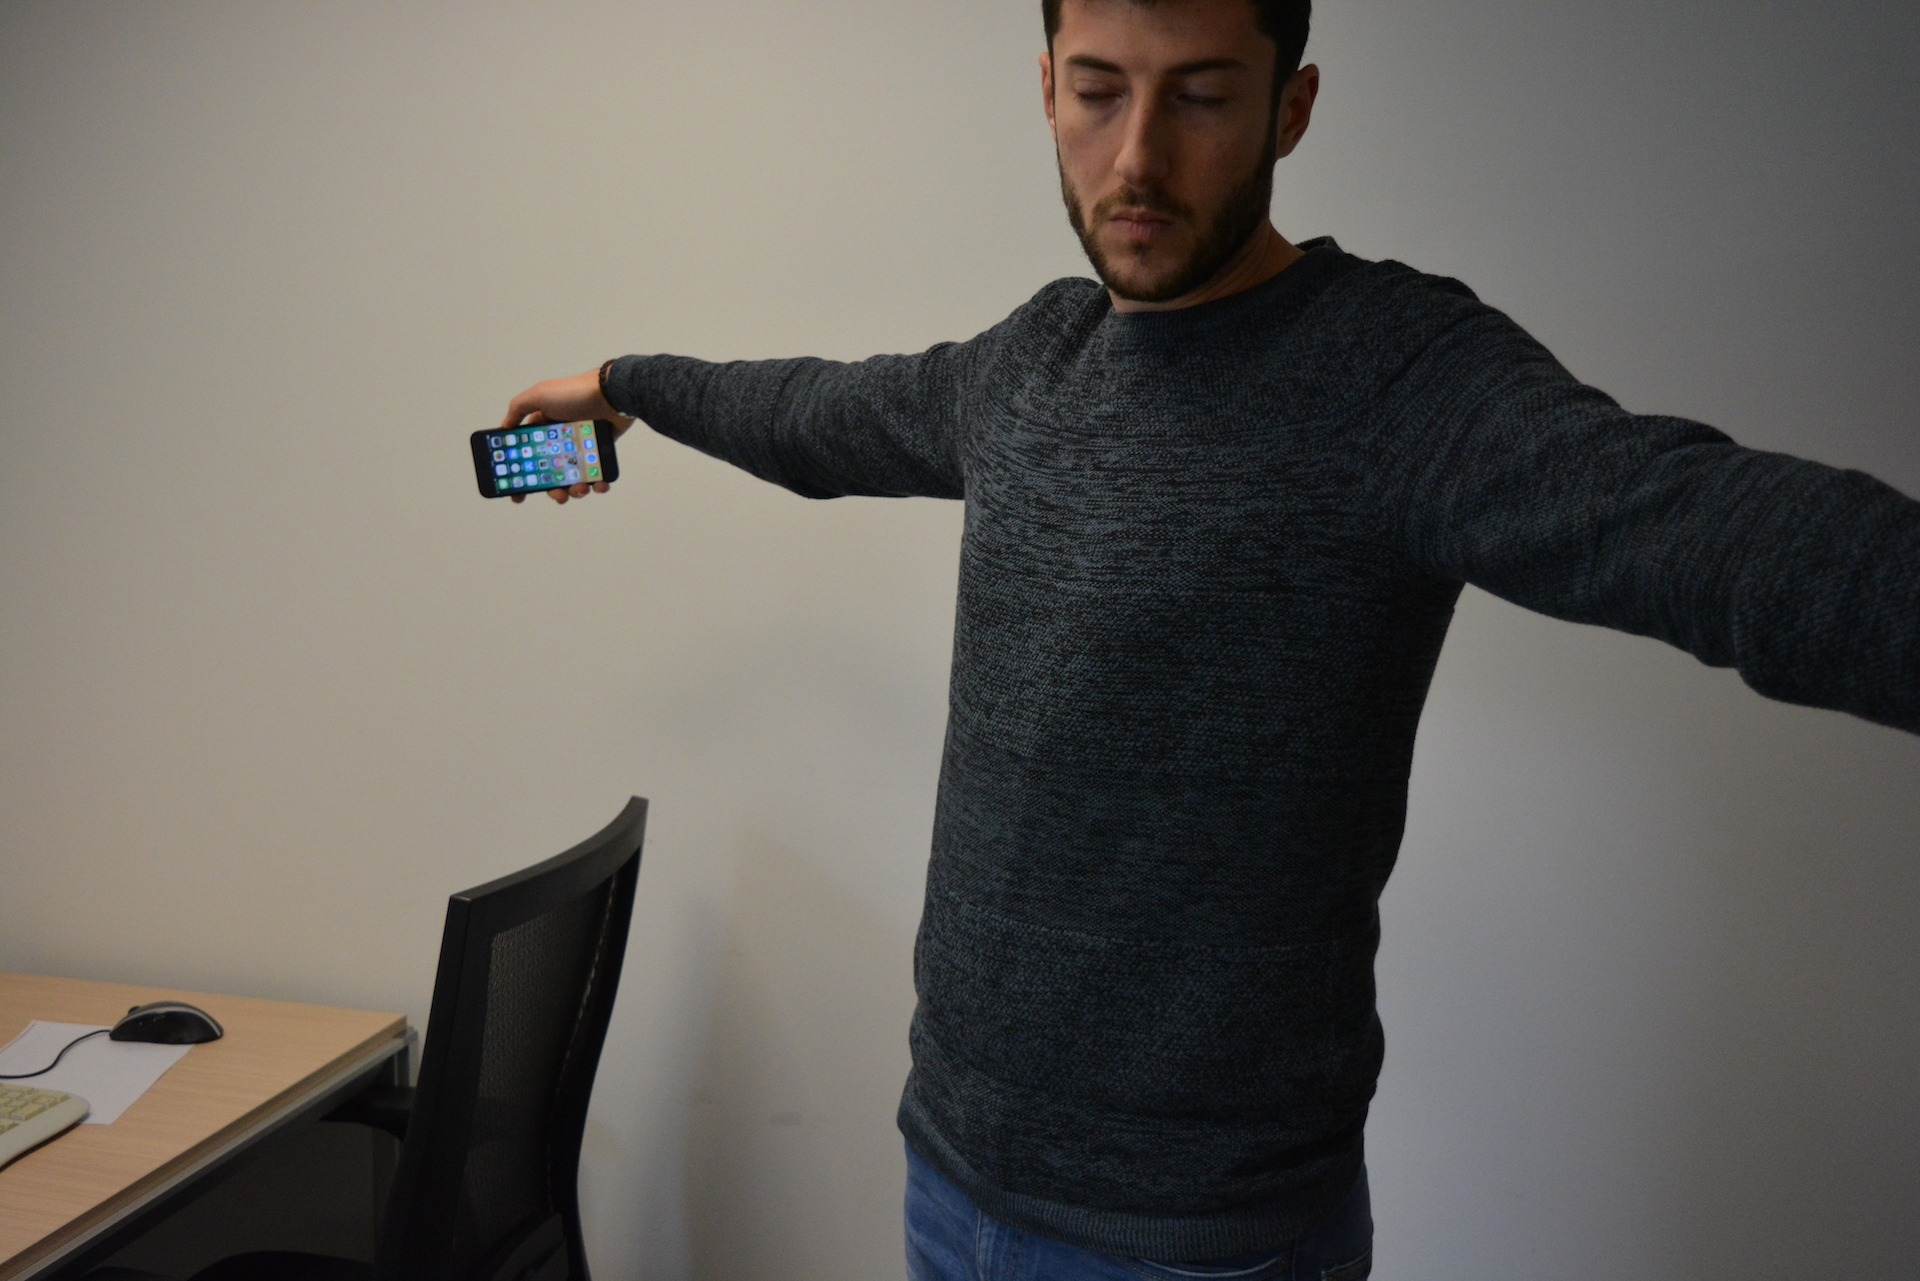smartphone: (469, 415, 620, 500)
